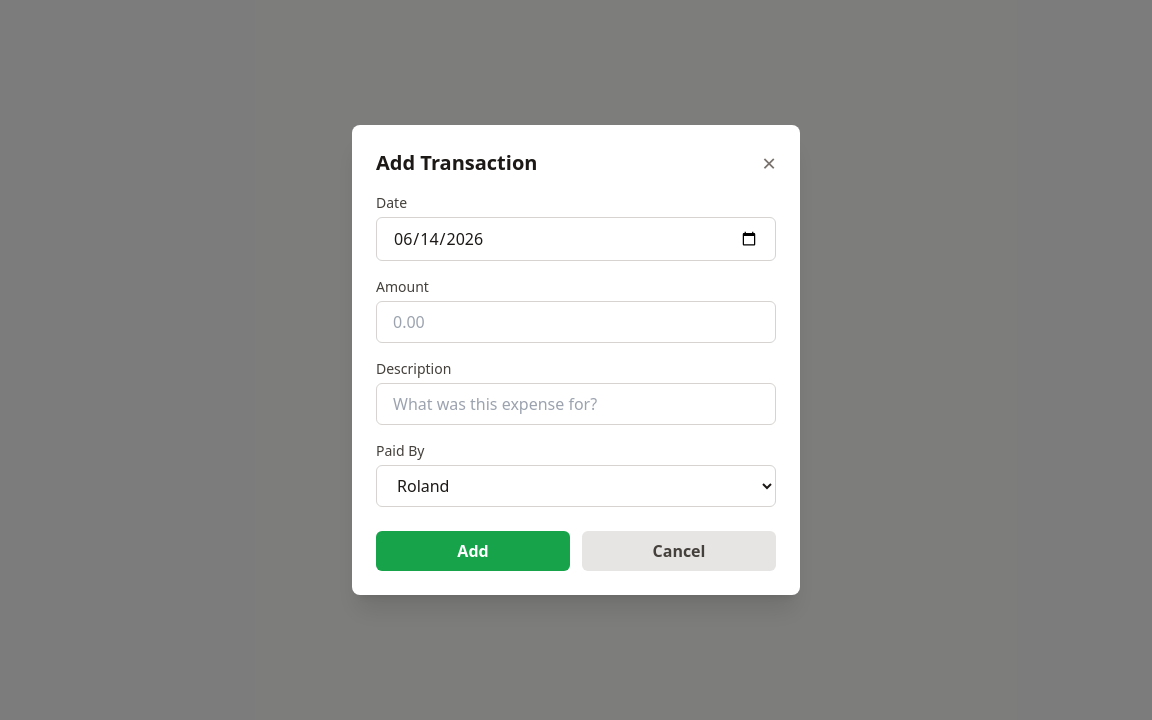
Test: AddTransactionPopup › validates amount is required
This screenshot has width=1152, height=720.
Type "Test" into the field labelled "Description" at (576, 404), box [376, 383, 776, 425]
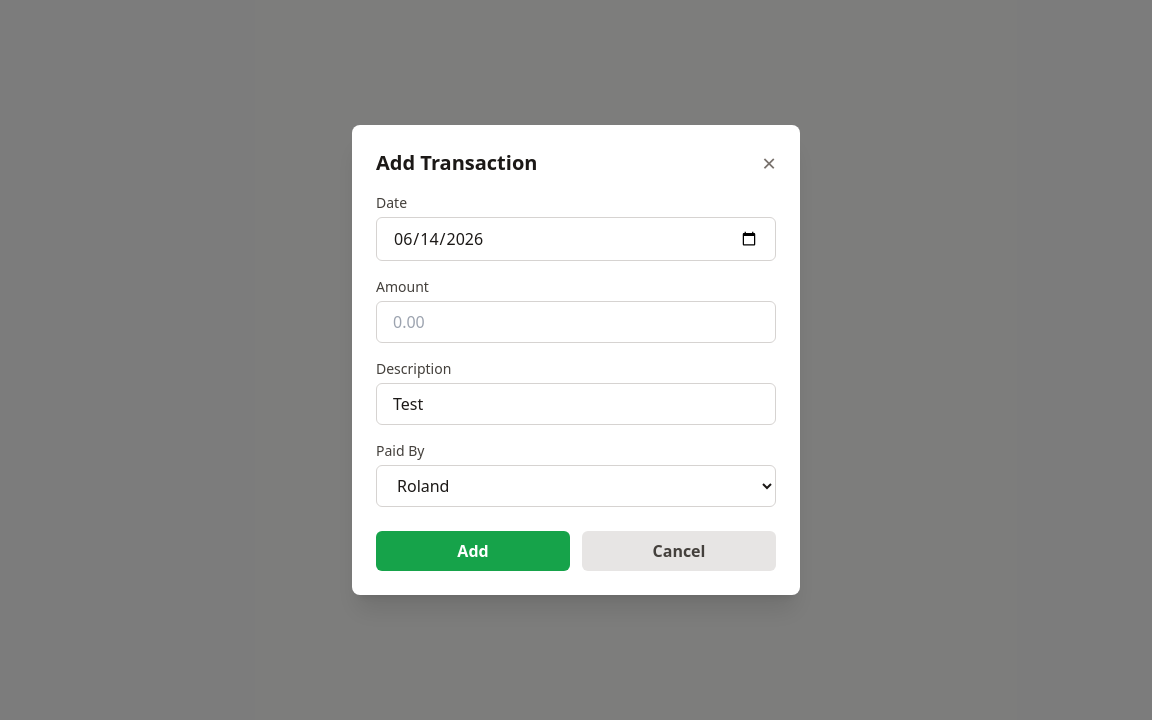
# Leave amount empty
Click the button "Add" at (473, 551), box [376, 531, 570, 571]
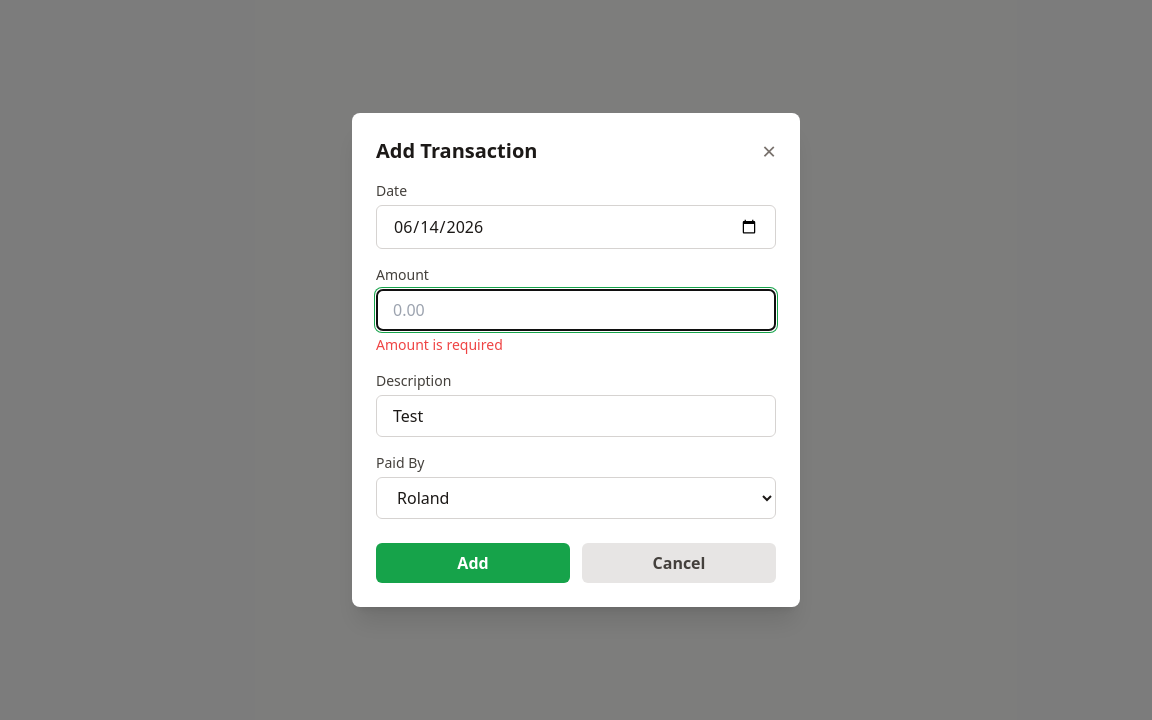
Expected: the text "Amount is required" is shown, [376, 335, 503, 354]
